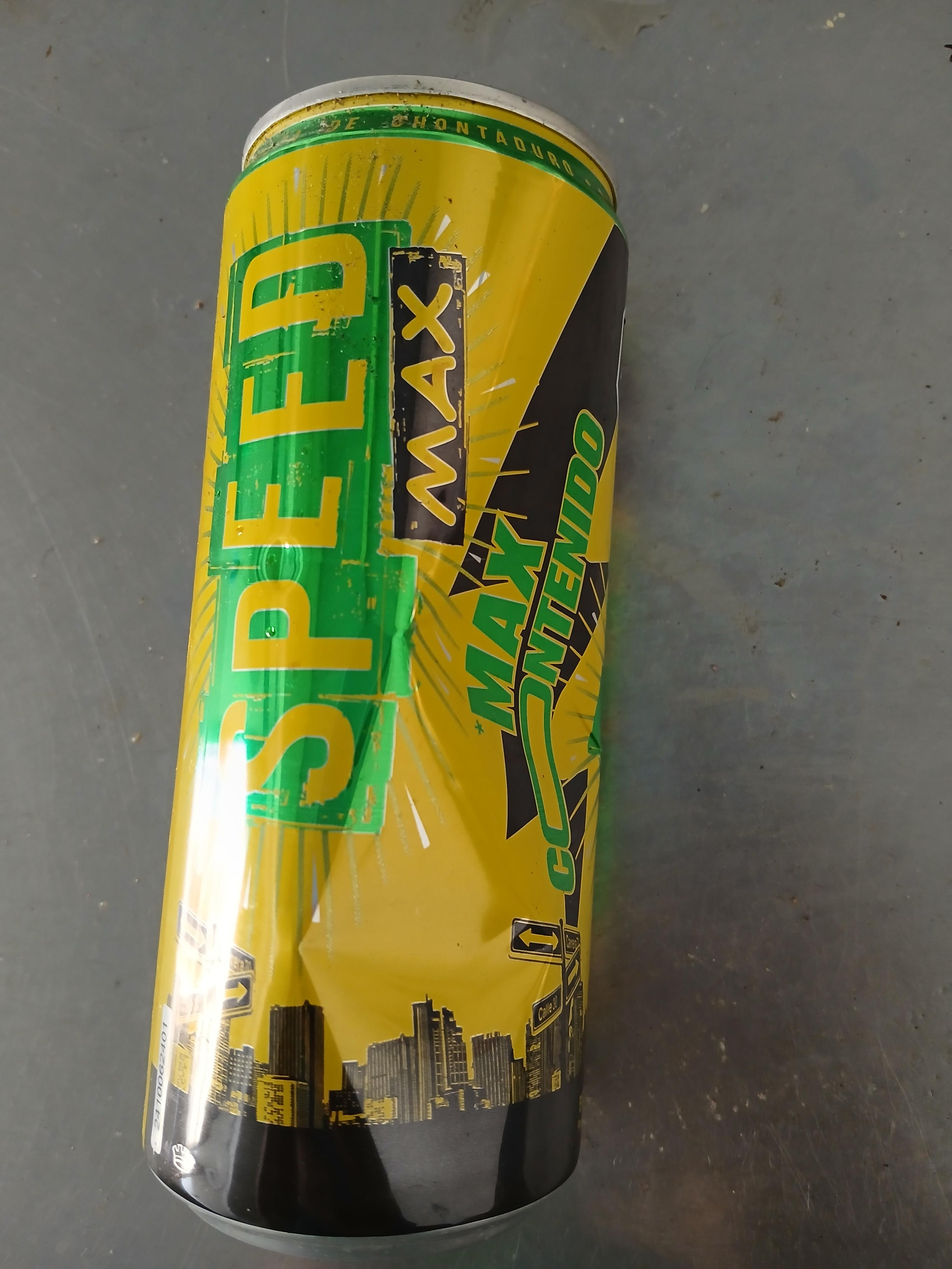Metal: (138, 69, 630, 1244)
